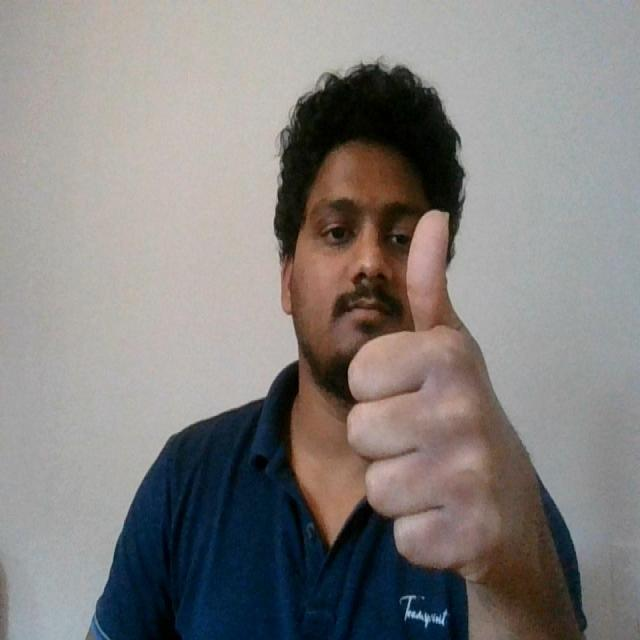Yes: (333, 195, 551, 583)
